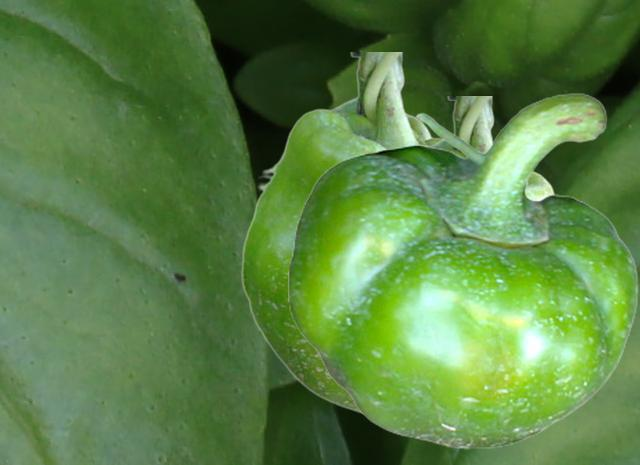bell_pepper: (288, 92, 637, 448), (240, 52, 440, 417), (423, 96, 554, 199)
